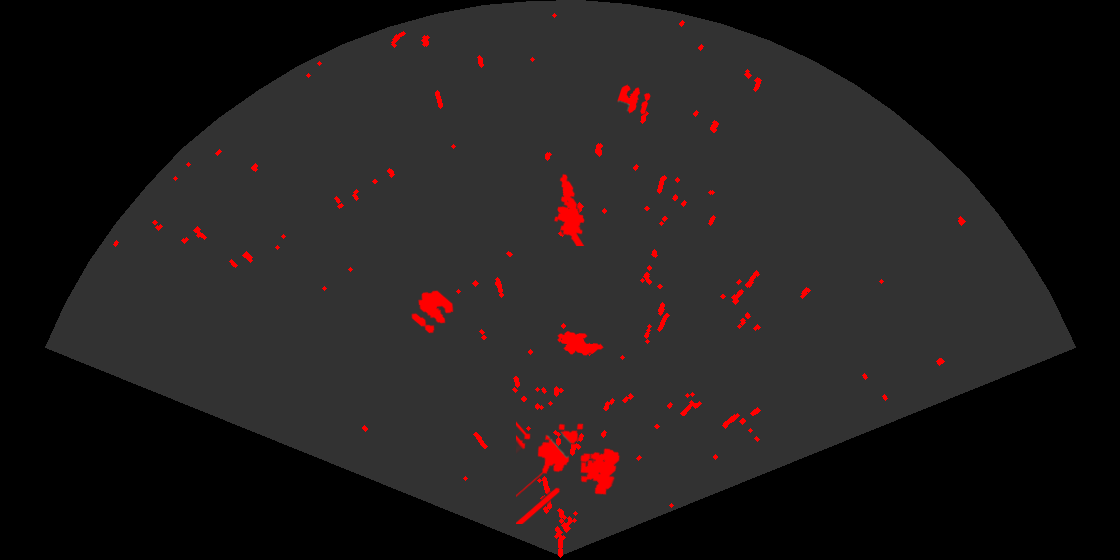AUV: (556, 330, 605, 357)
ball: (410, 289, 455, 335), (616, 83, 652, 116)
cage: (516, 419, 622, 524)
frogman: (552, 172, 586, 246)
